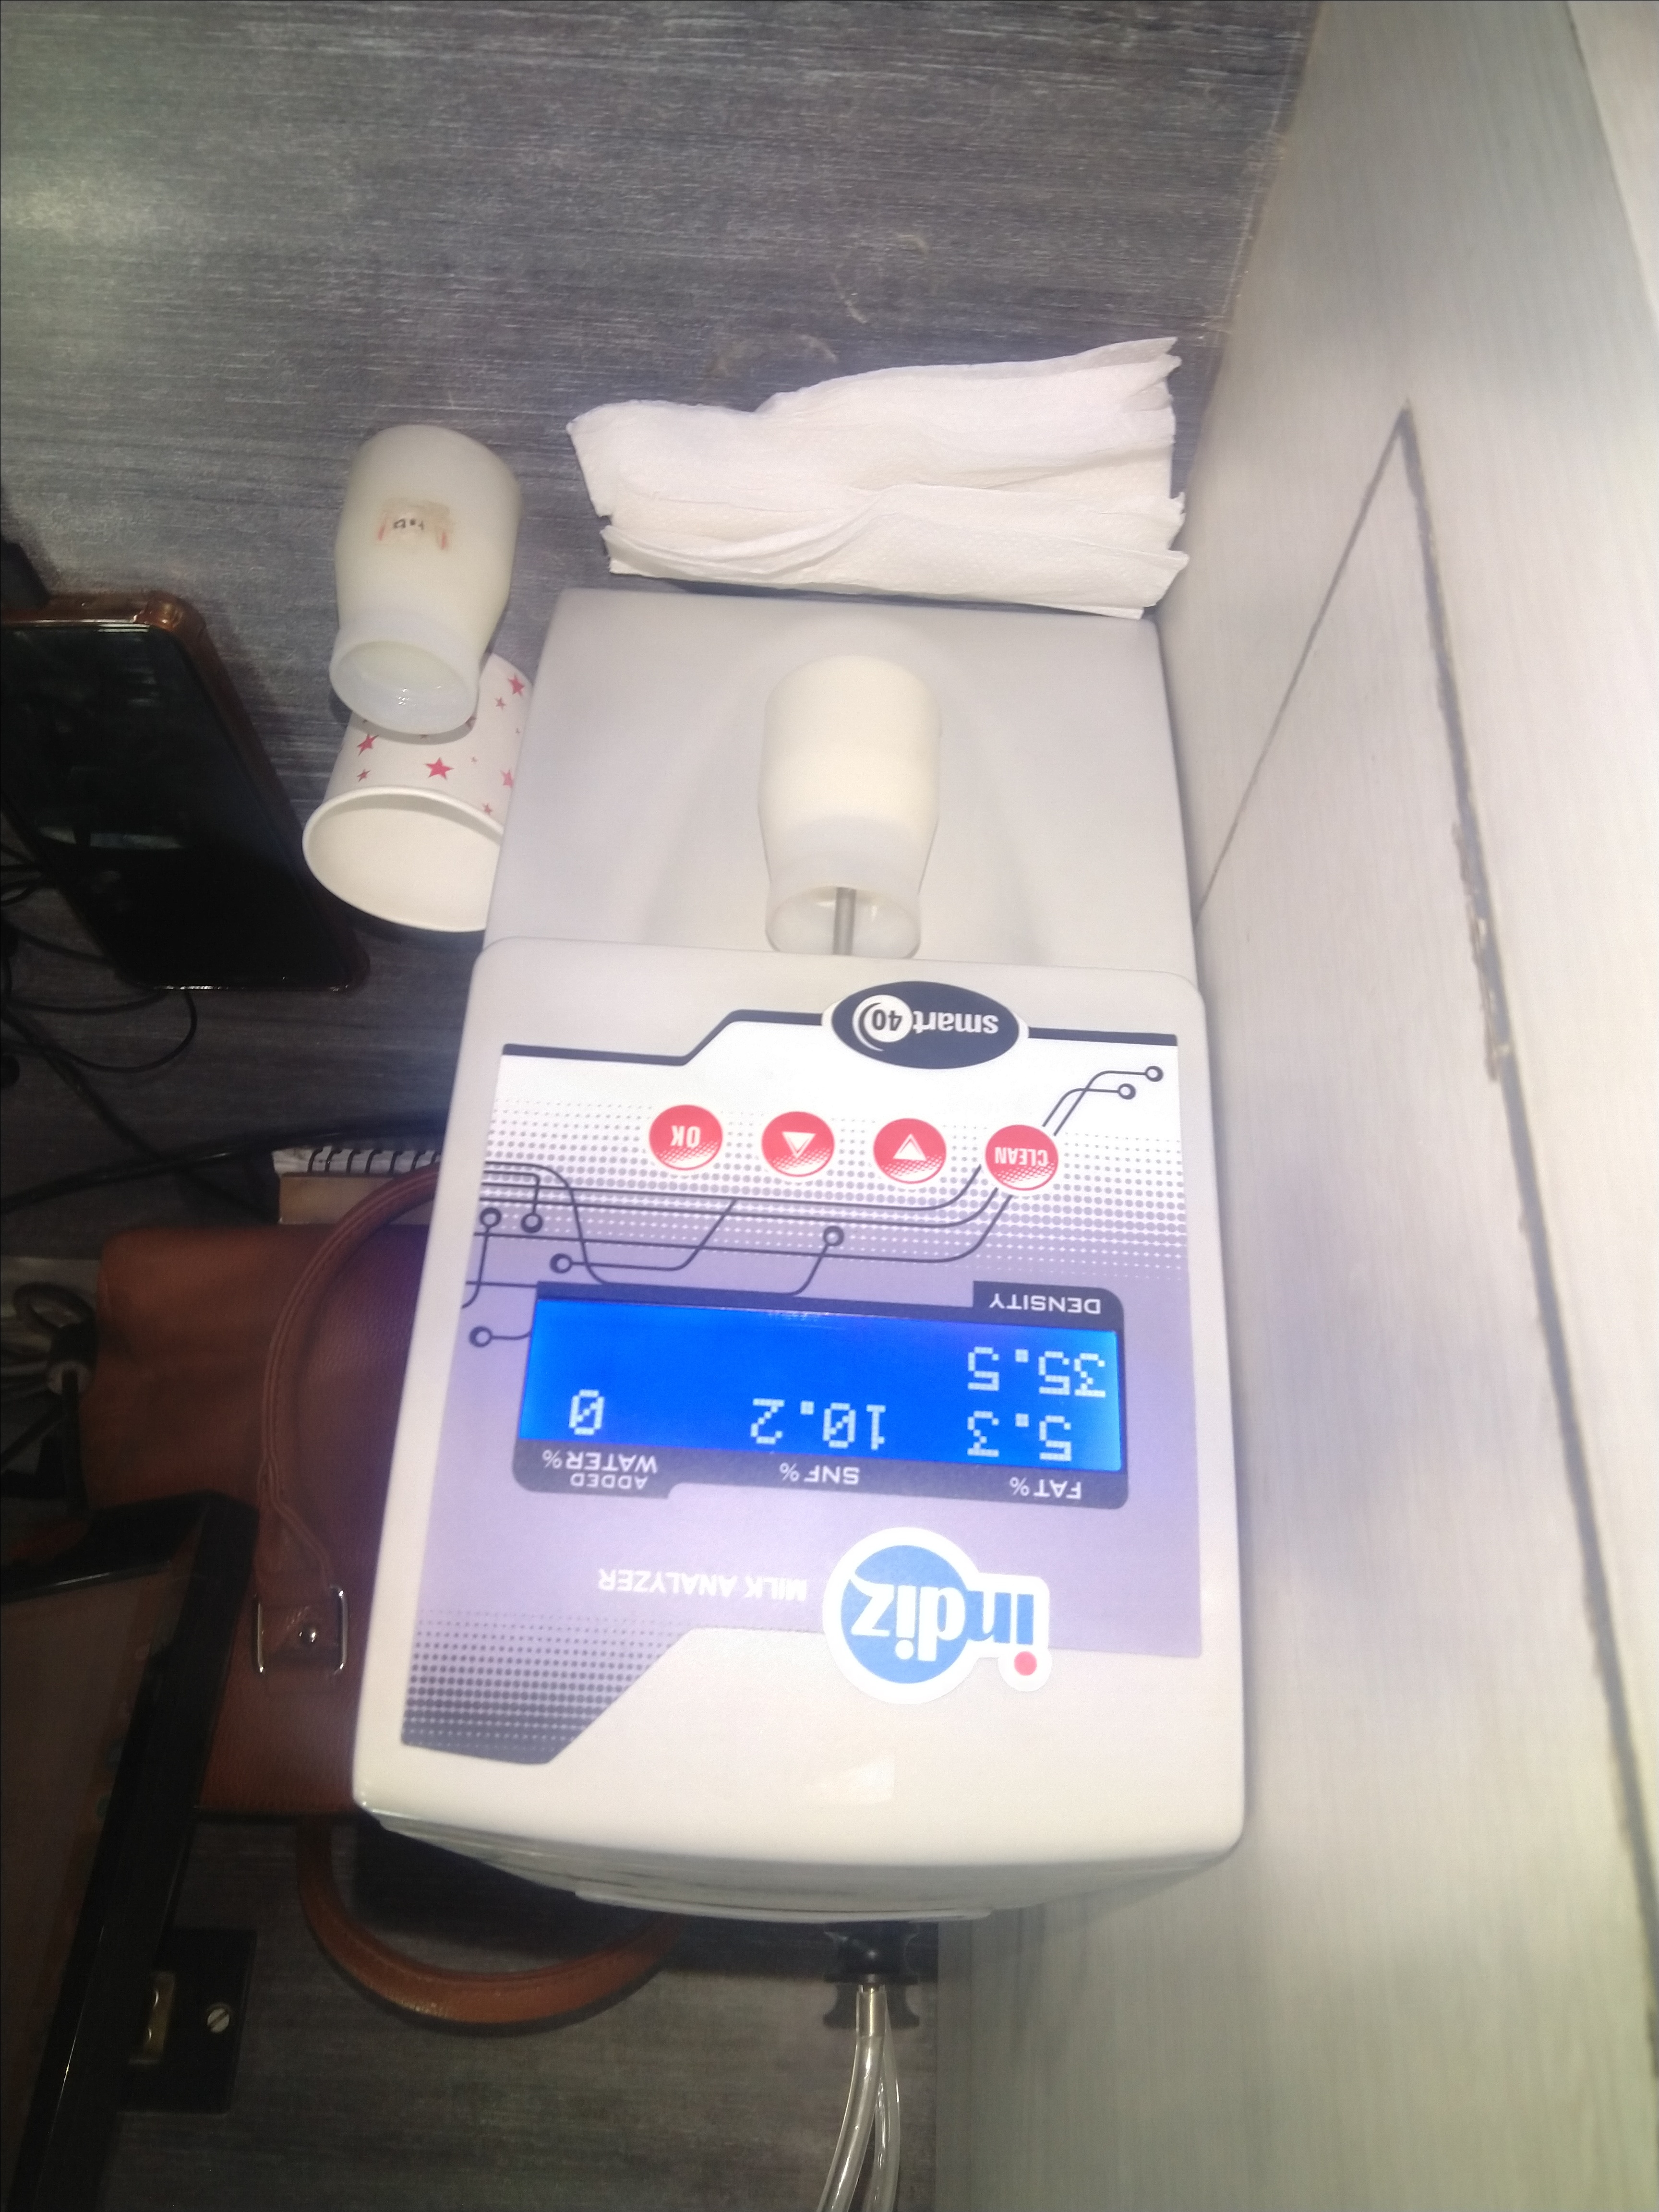lcd: (505, 1280, 1129, 1500)
